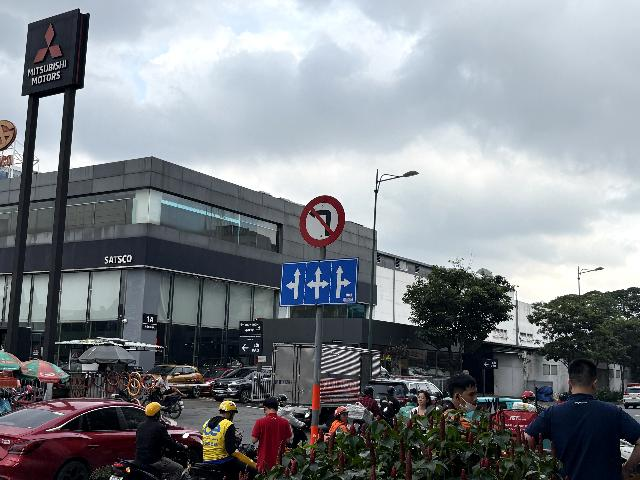cam-re-trai: (299, 195, 345, 248)
